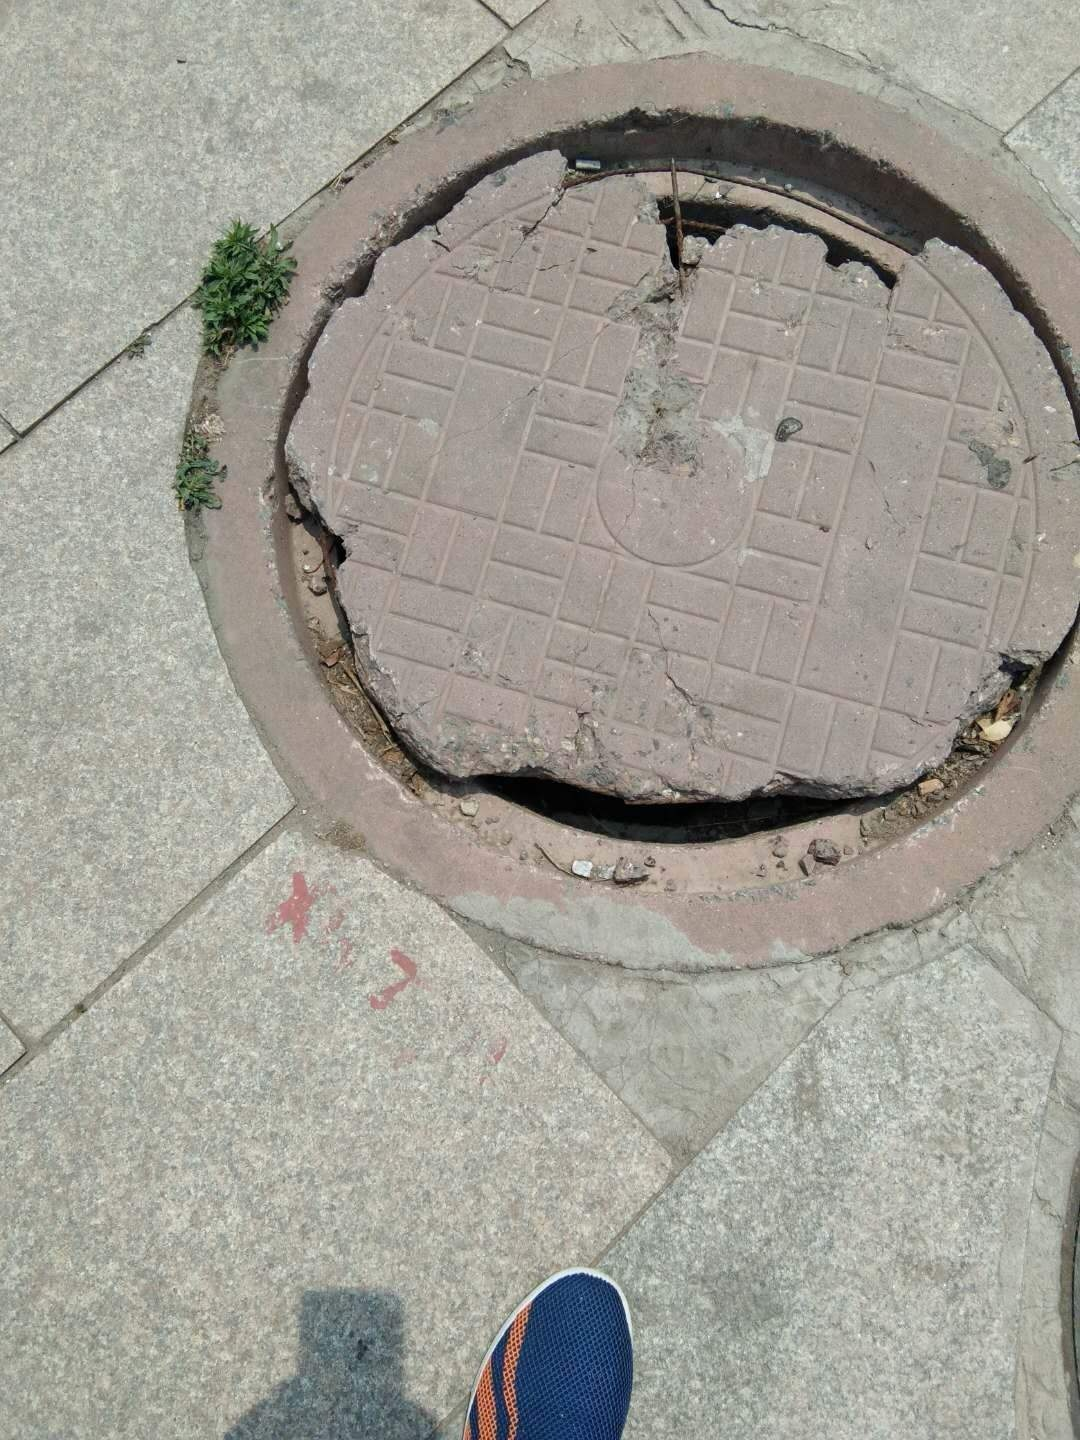broke: (214, 54, 1080, 962)
